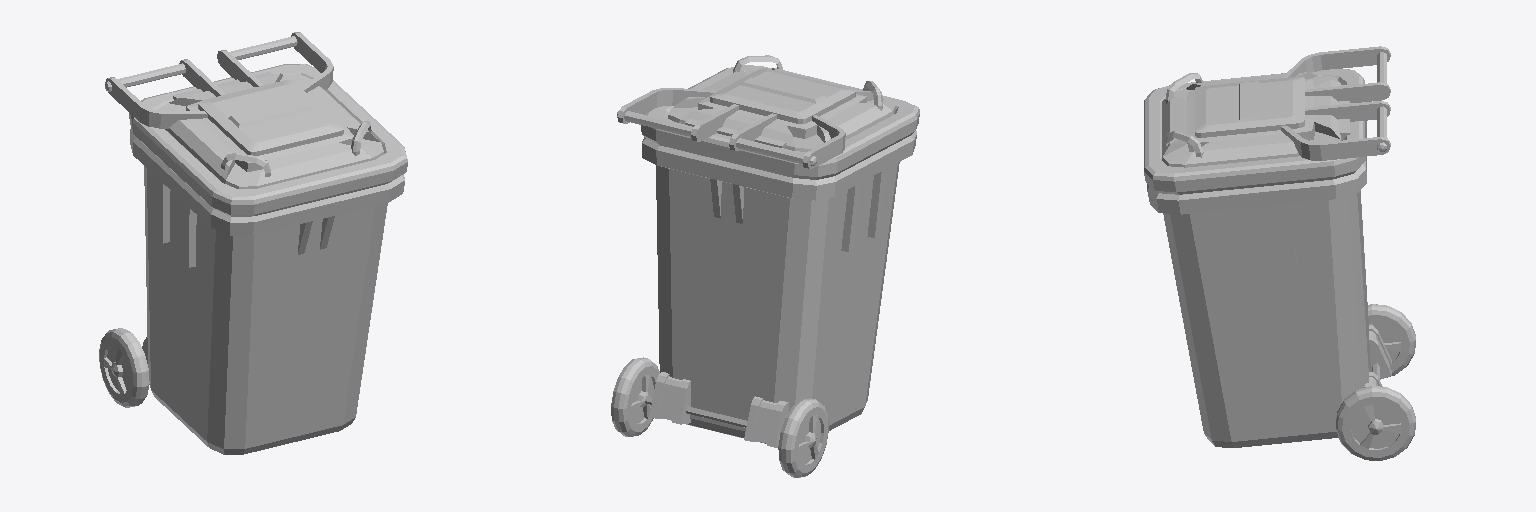
File: trashcan.obj
3 renders of one model, left to right at view 1: azimuth 30°, elevation 25°; view 2: azimuth 150°, elevation 25°; view 3: azimuth 270°, elevation 25°, orthographic.
Visible parts, largest first — view 1: Trash_Can:Mesh; view 2: Trash_Can:Mesh; view 3: Trash_Can:Mesh.
Part boxes in pixels (left/top/right/bottom): Trash_Can:Mesh: left=99, top=32, right=407, bottom=454; Trash_Can:Mesh: left=611, top=55, right=919, bottom=477; Trash_Can:Mesh: left=1144, top=46, right=1415, bottom=460.
Bounding box in the file's own units: 1.98 × 3.12 × 2.36.